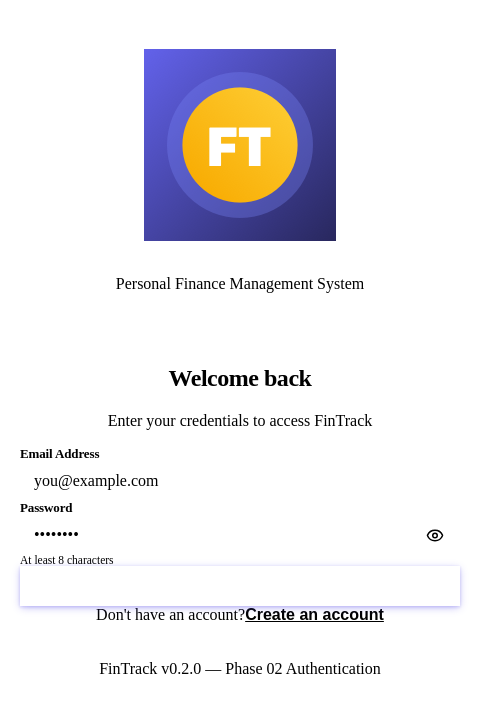
Test case: App & Authentication Flow › toggles to register mode and displays cycle start day field
Click the button "Create an account" at x=315, y=615, box [245,606,384,624]
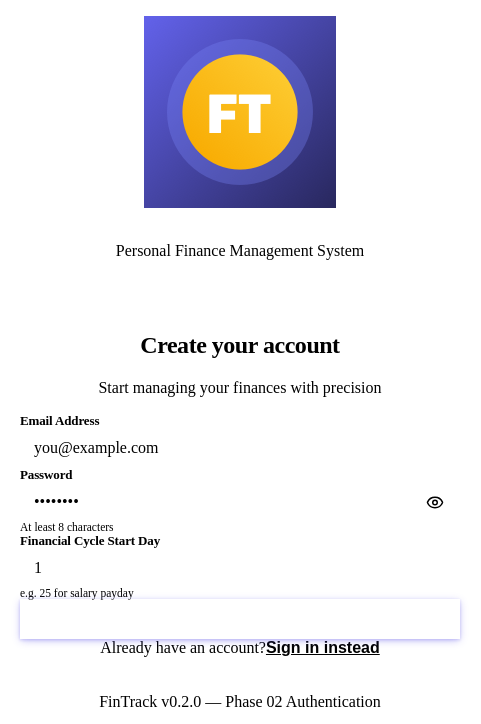
Check: the heading "Create your account" is shown, box [140,332,340,358]
Check: the number field labelled "Financial Cycle Start Day" is shown, box [20,549,460,587]
Check: the button "Create Account" is shown, box [20,599,460,639]
